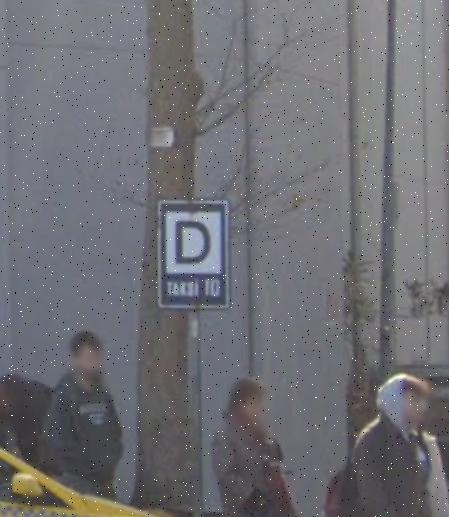station: (160, 203, 227, 272)
